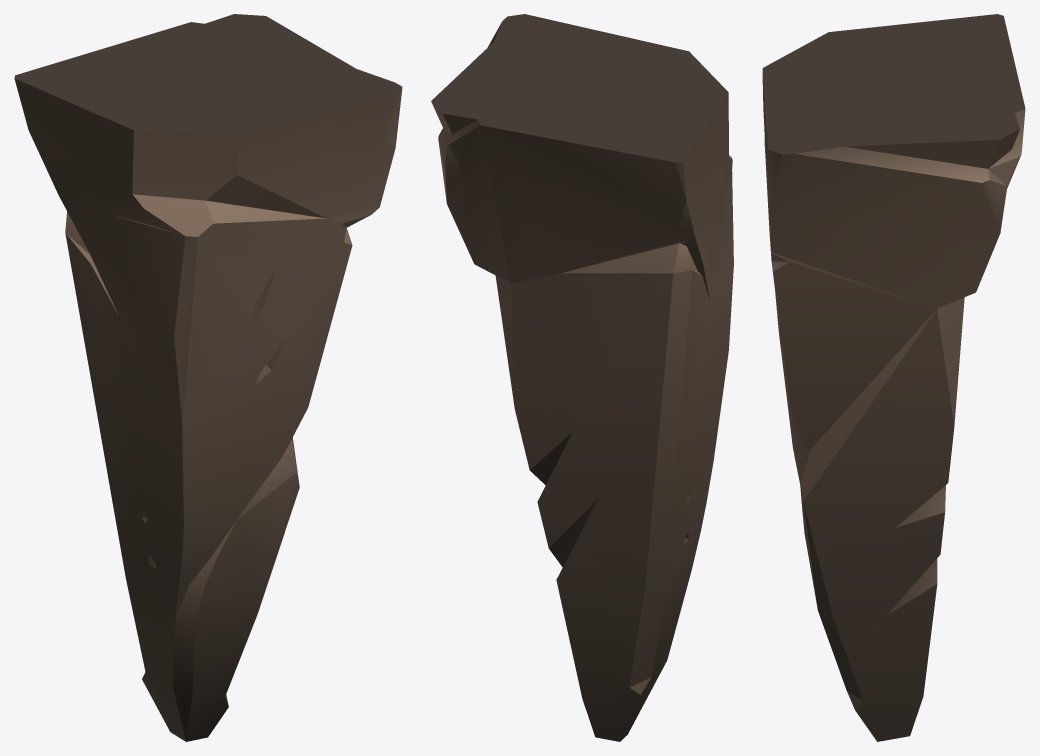
Rendered from Stalactite_2A.fbx.
The picture shows the model from 3 angles, left to right: view 1: azimuth 30°, elevation 25°; view 2: azimuth 150°, elevation 25°; view 3: azimuth 270°, elevation 25°; orthographic projection. The views are drawn at different scales.
Parts seen in each view (by area): view 1: Stalactite_2A; view 2: Stalactite_2A; view 3: Stalactite_2A.
Boxes of the visible parts, x1,y1,x2,y2 form: Stalactite_2A: [14, 14, 402, 741]; Stalactite_2A: [431, 14, 733, 741]; Stalactite_2A: [762, 14, 1025, 741].
Size of the model in its own units: 236 by 518 by 187.
